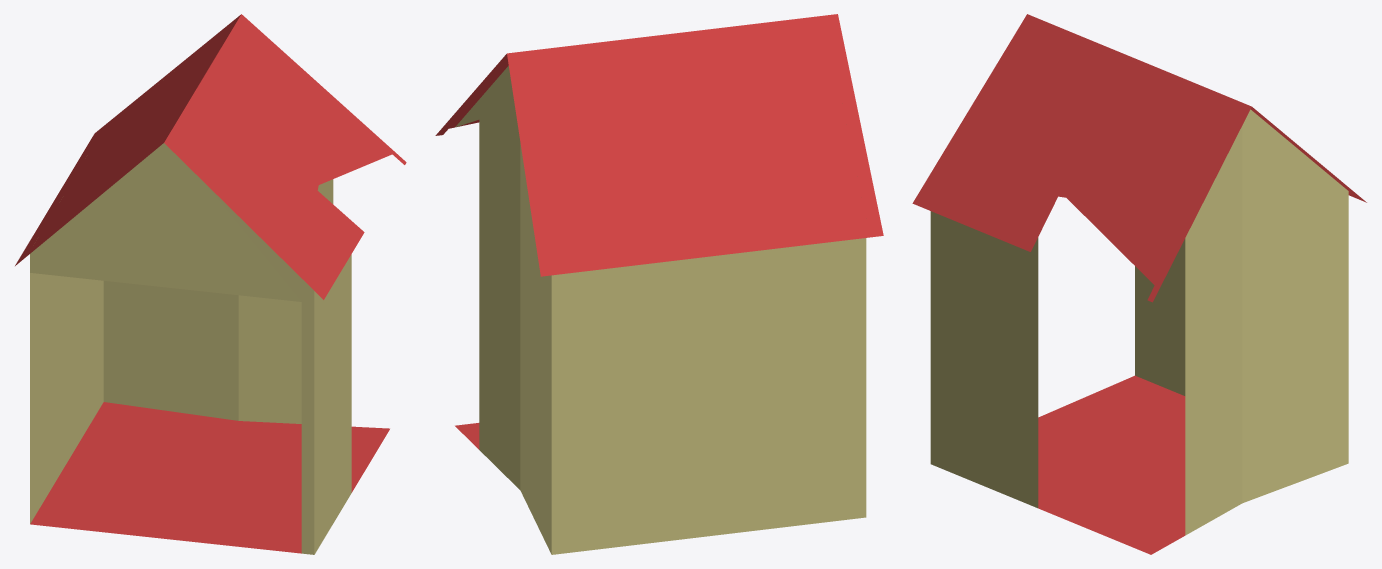
3 views of the same model, side by side, from view 1: azimuth 30°, elevation 25°; view 2: azimuth 150°, elevation 25°; view 3: azimuth 270°, elevation 25° (orthographic). The views are drawn at different scales.
Size of the model in its own units: 17.9 by 17.63 by 17.12.
